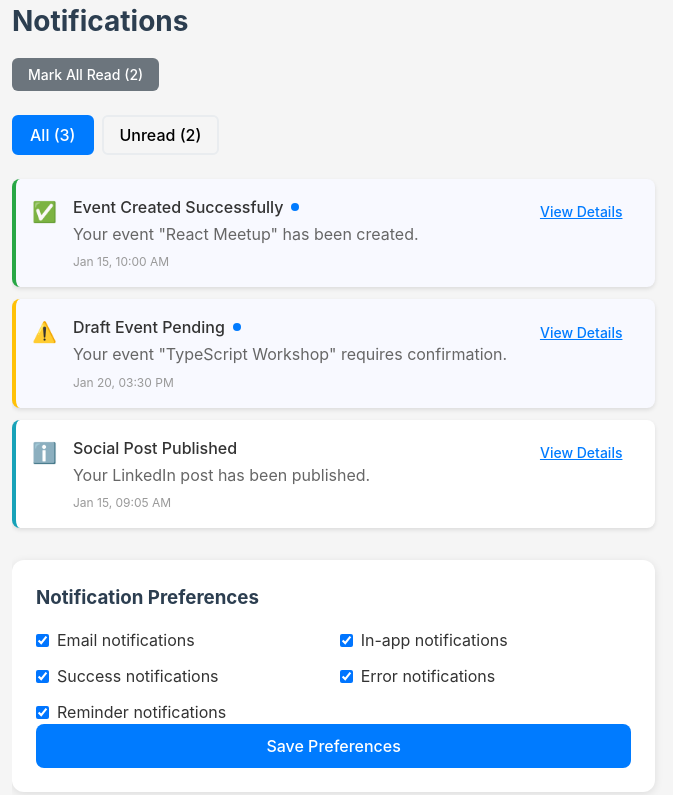
it: NotificationCenter Component › handles mark all as read API error gracefully
Expected: the text "Event Created Successfully" is shown, [73,197,300,217]
Step 1. Click the button "Mark All Read (2)" → (86, 74), box [12,58,159,91]
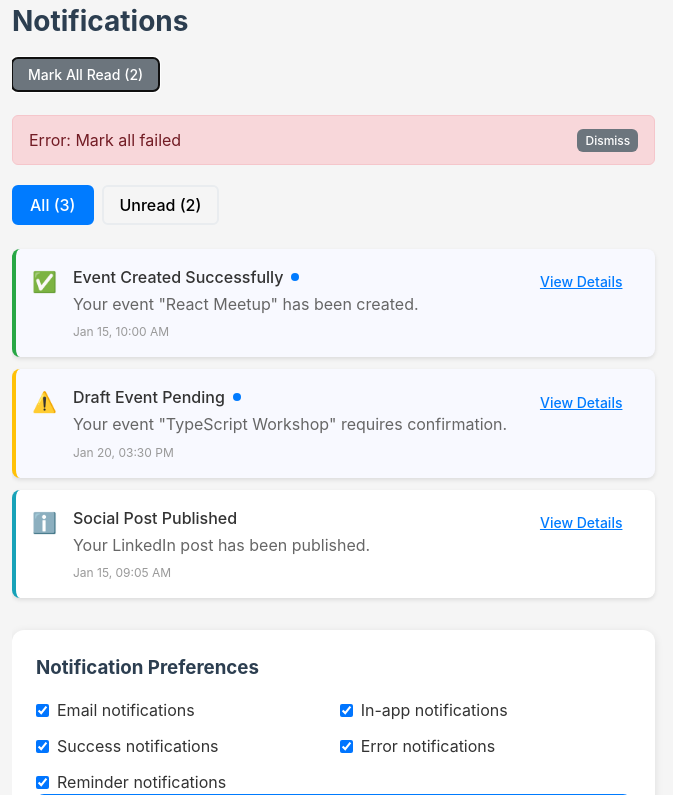
Expected: the text "Error: Mark all failed" is shown, [29,130,181,150]
